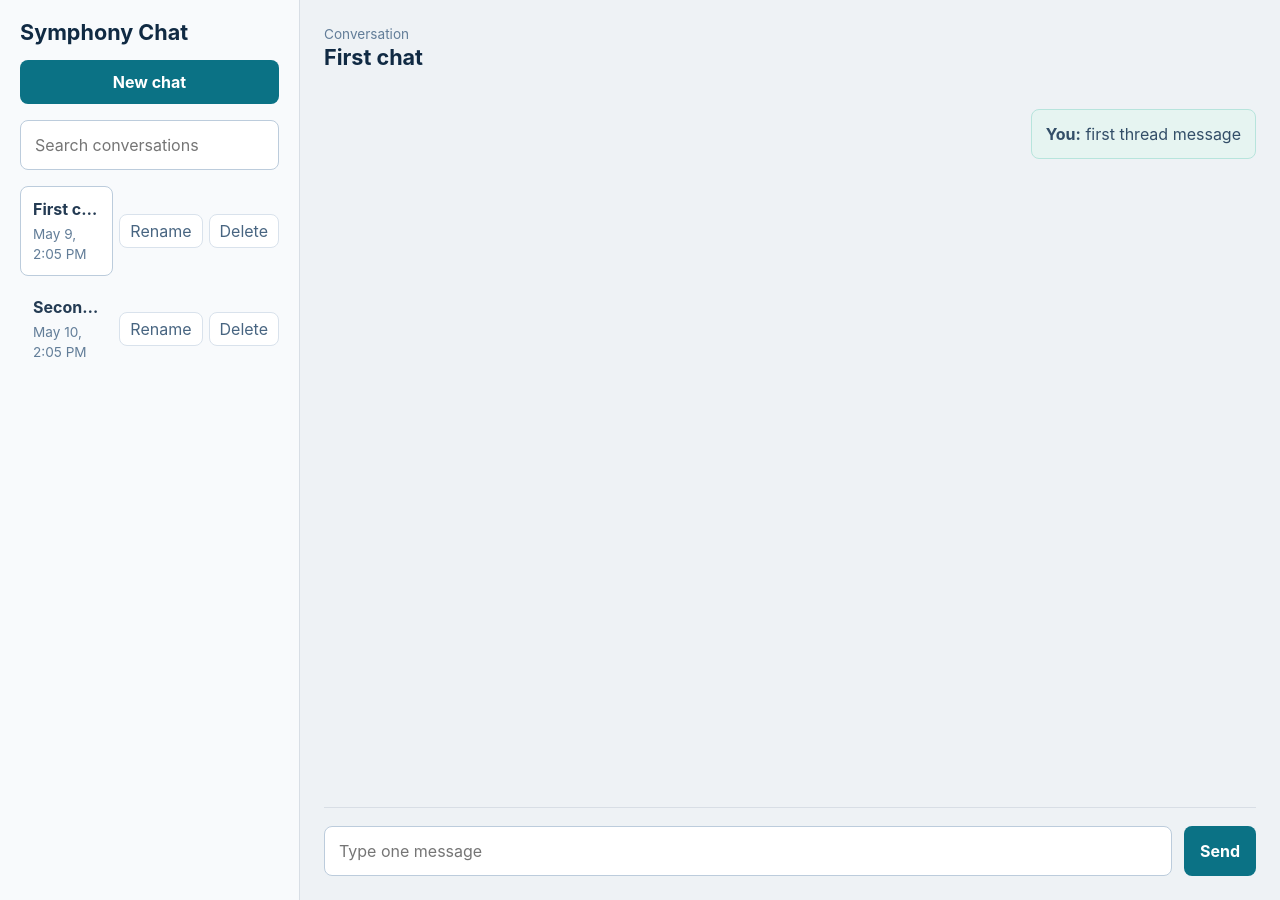
Test case: App › keeps the selected conversation open when filtering hides it
This screenshot has width=1280, height=900.
Expected: the text "first thread message" is shown, [1085,124,1241,144]
Type "second" into the search field labelled "Search conversations" at (150, 145), box [20,120,279,170]
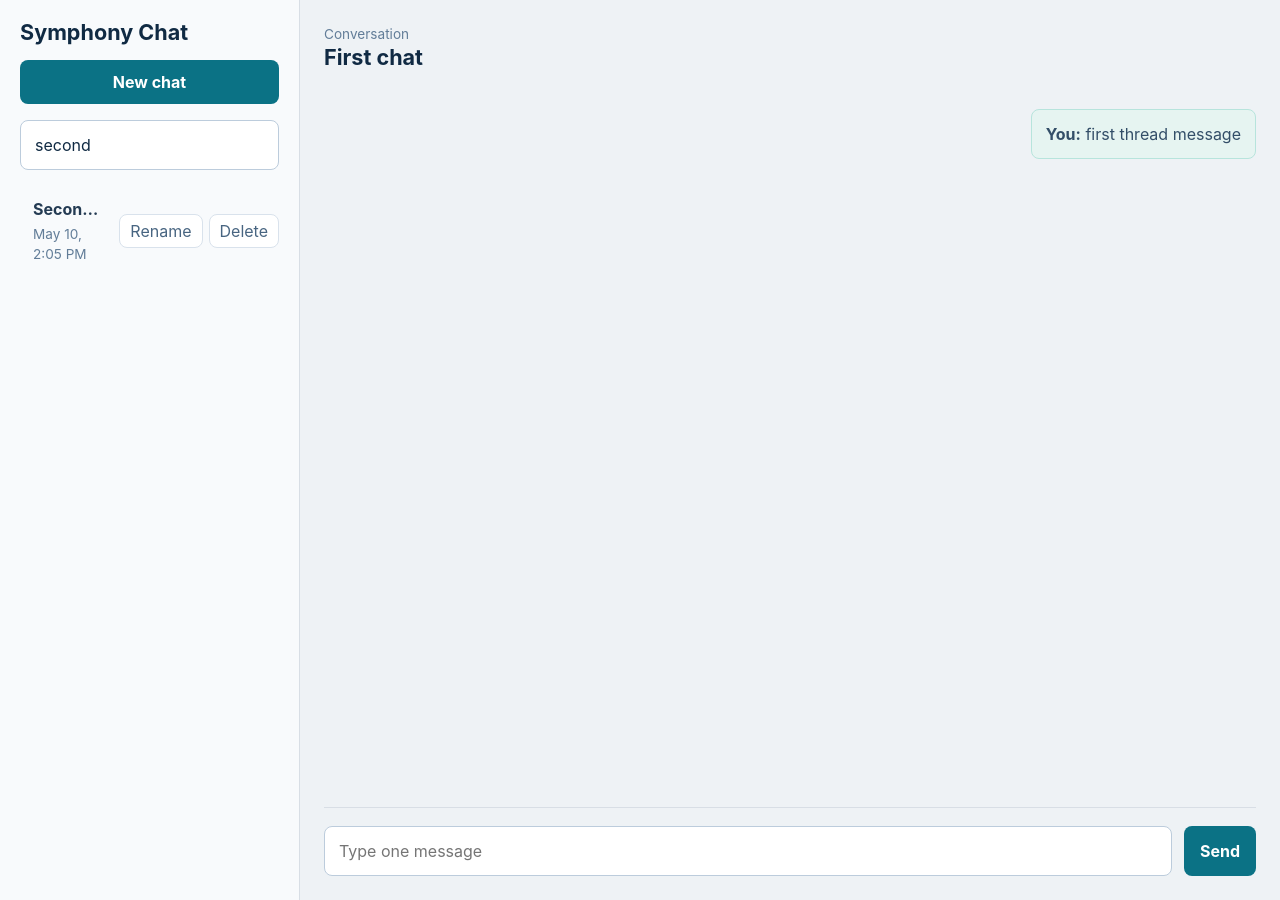
Expected: the text "first thread message" is shown, [1085,124,1241,144]
Click the button with aria-label "Open Second chat" at (67, 231), box [20,186,113,276]
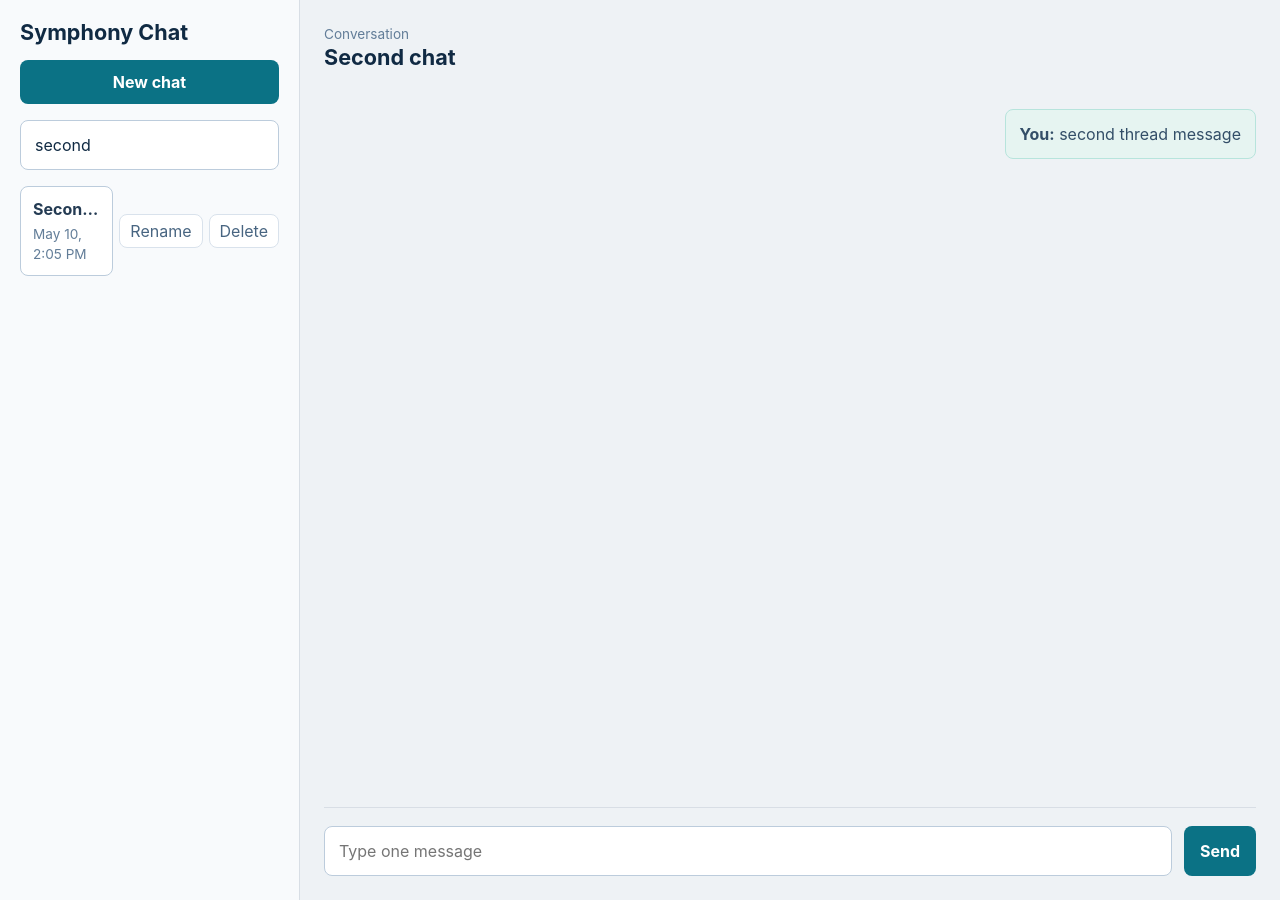
Expected: the text "second thread message" is shown, [1059,124,1241,144]
Expected: the text "first thread message" is gone
